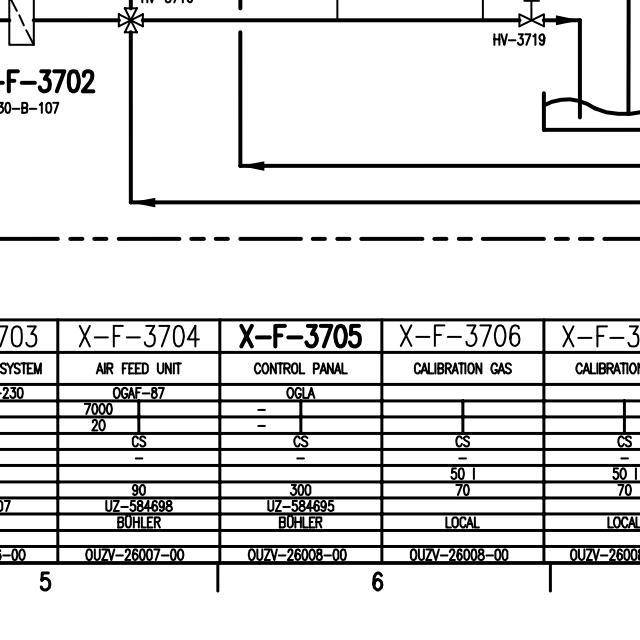4W: (113, 4, 147, 37)
F2: (6, 0, 37, 48)
HV: (517, 0, 548, 30)
